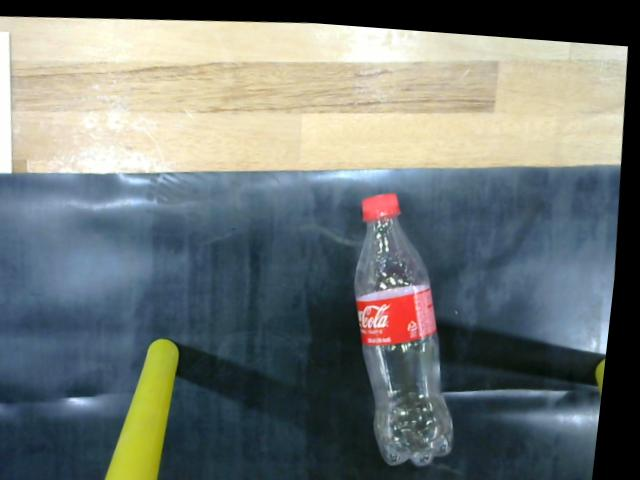bottle: (351, 177, 470, 469)
